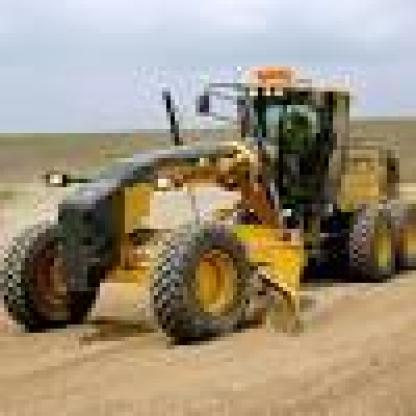bull_dozer/loader/grader: (8, 62, 412, 370)
